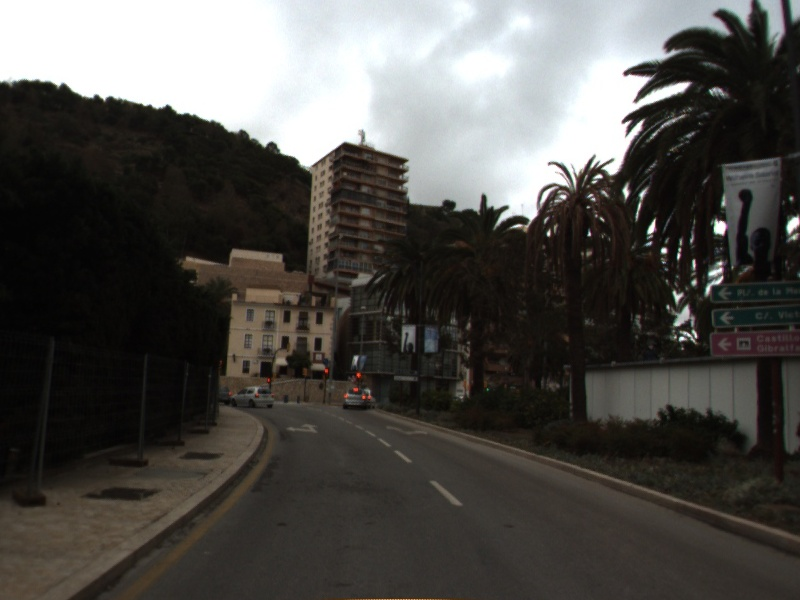STRAIGHT_LEFT: (284, 422, 320, 435)
STRAIGHT_RIGHT: (384, 422, 430, 438)
